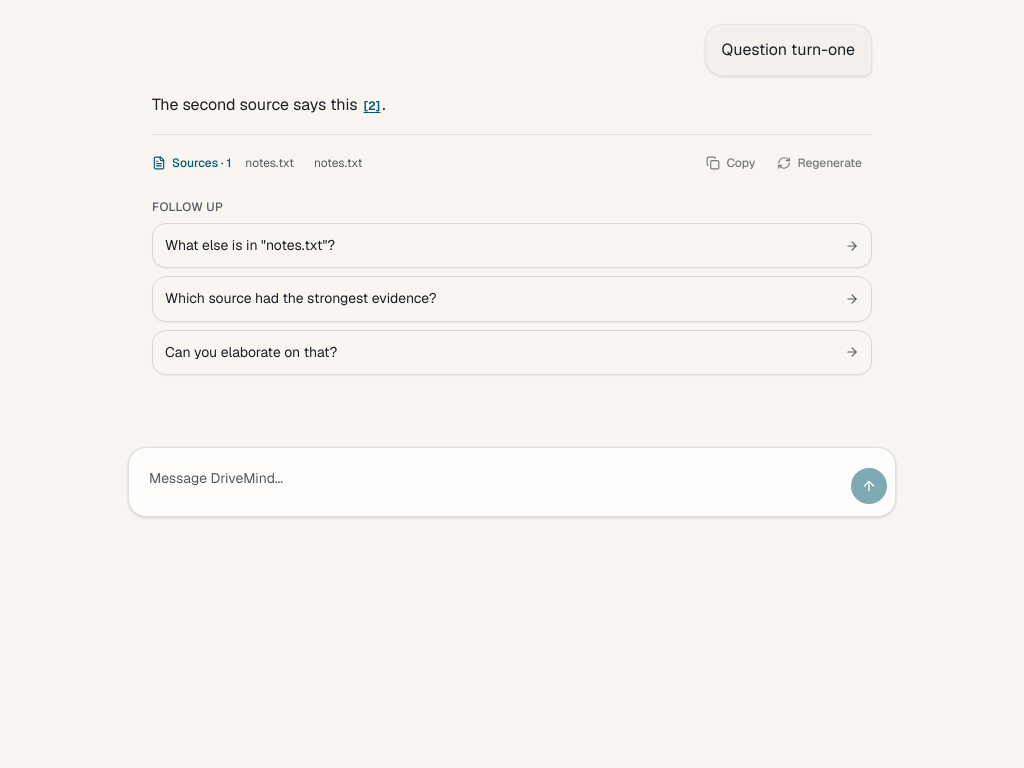
Test: answer-wide evidence › opens an inline marker in its answer's evidence context focused on that chunk
This screenshot has width=1024, height=768.
Click the button named "view citation 2": [372, 106] box [364, 98, 380, 114]
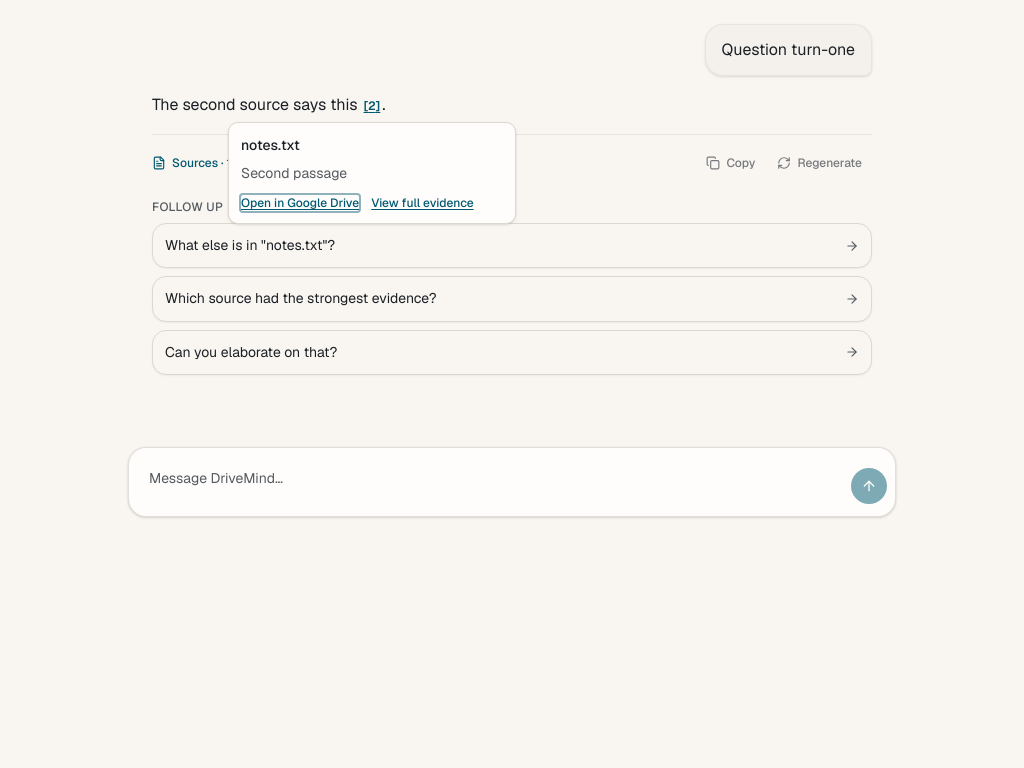
Now the text "Second passage" is shown, box [241, 164, 347, 182]
